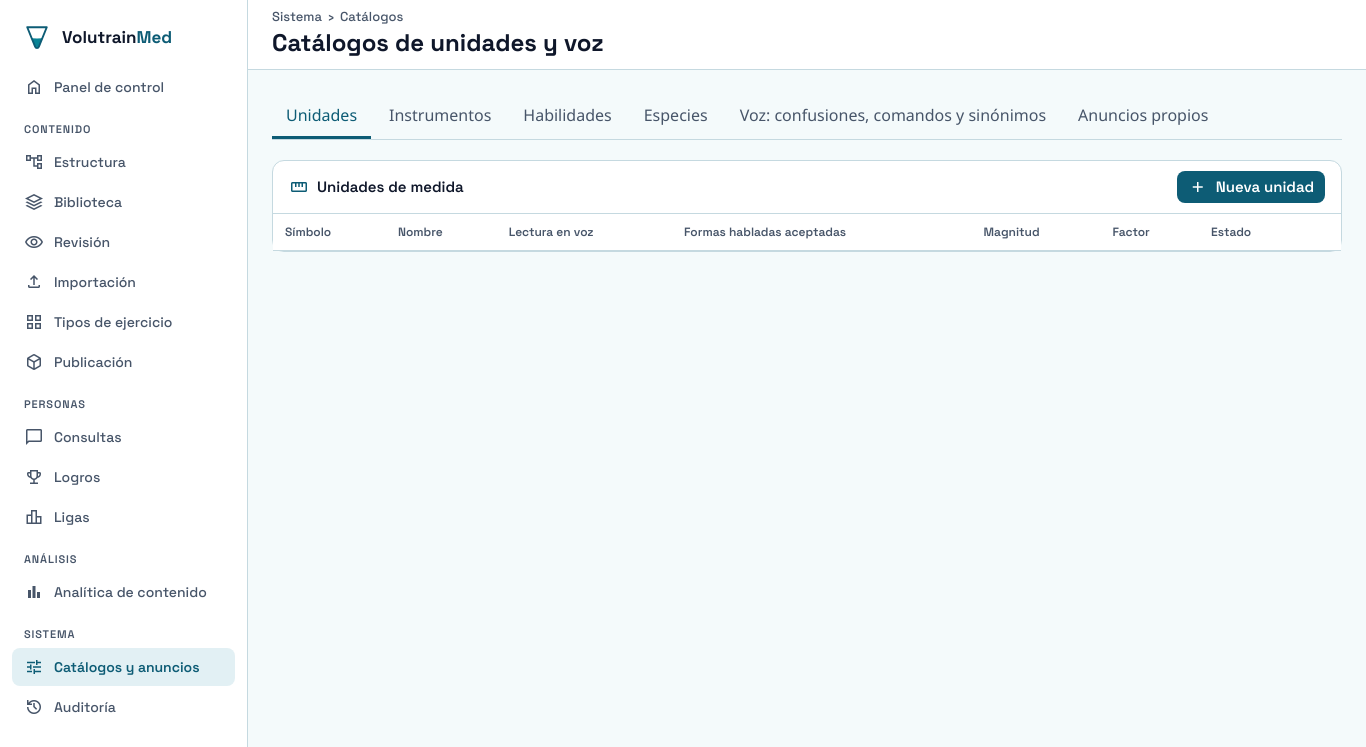
it: B26 · catálogos de unidades y voz › Prueba de interpretación: «doscientas gammas» se interpreta como 200 µg
Click the tab "Voz: confusiones, comandos y sinónimos" at x=893, y=116, box top-left (726, 94), bottom-right (1060, 139)
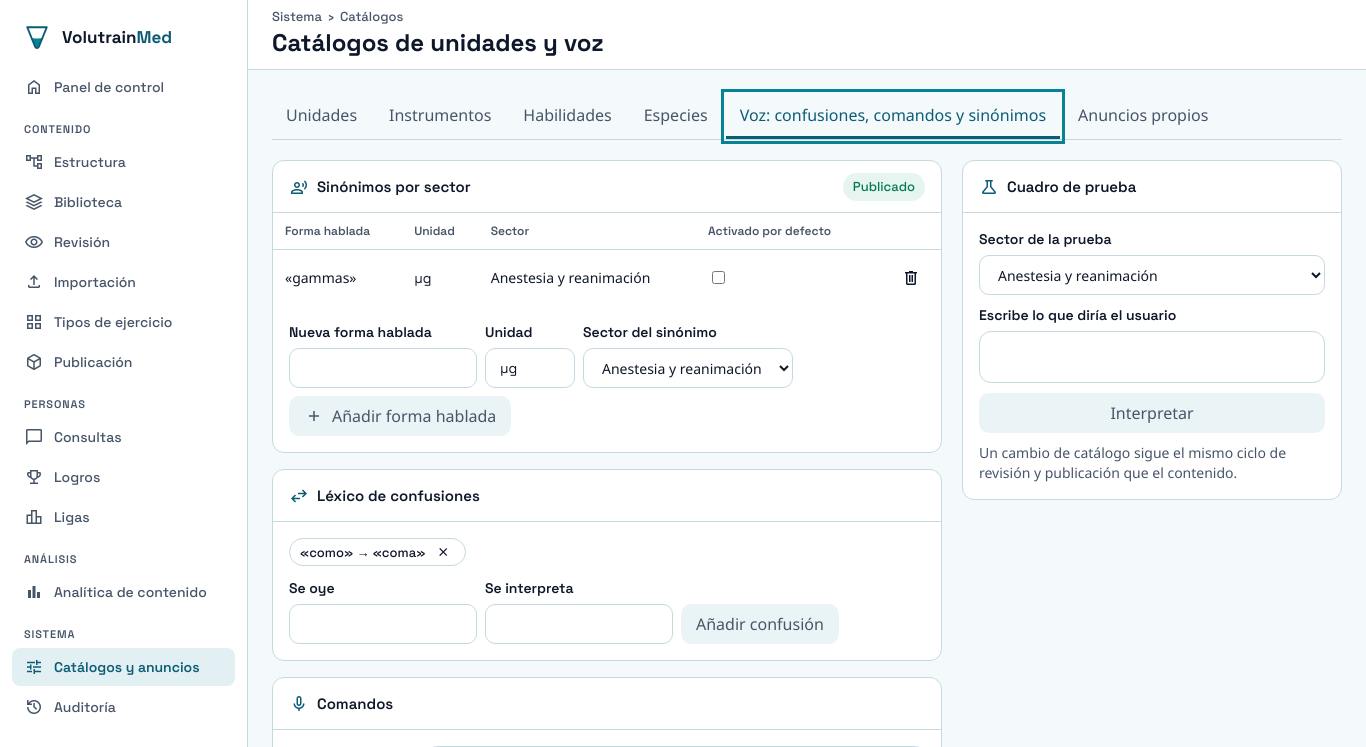
Type "doscientas gammas" into the field labelled "Escribe lo que diría el usuario" at x=1152, y=357, box top-left (979, 331), bottom-right (1325, 383)
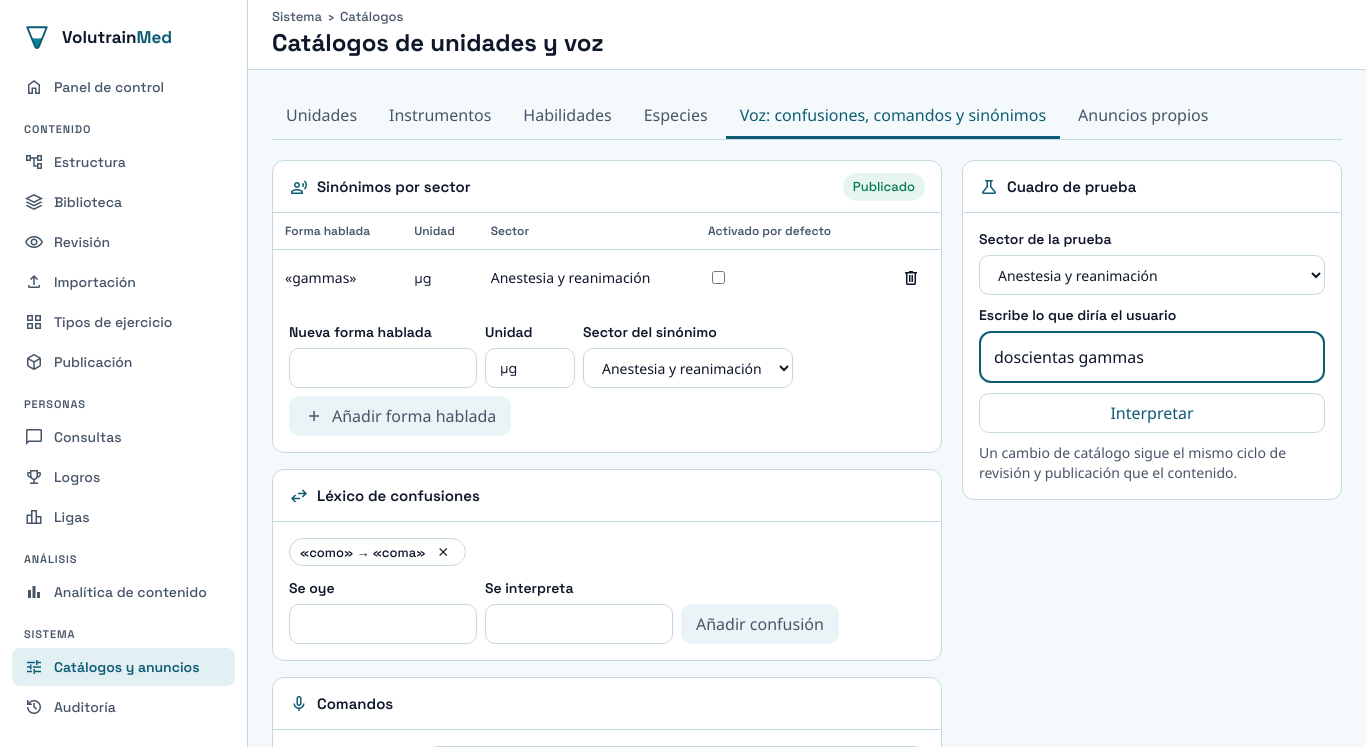
Click the button "Interpretar" at x=1152, y=413, box top-left (979, 393), bottom-right (1325, 433)
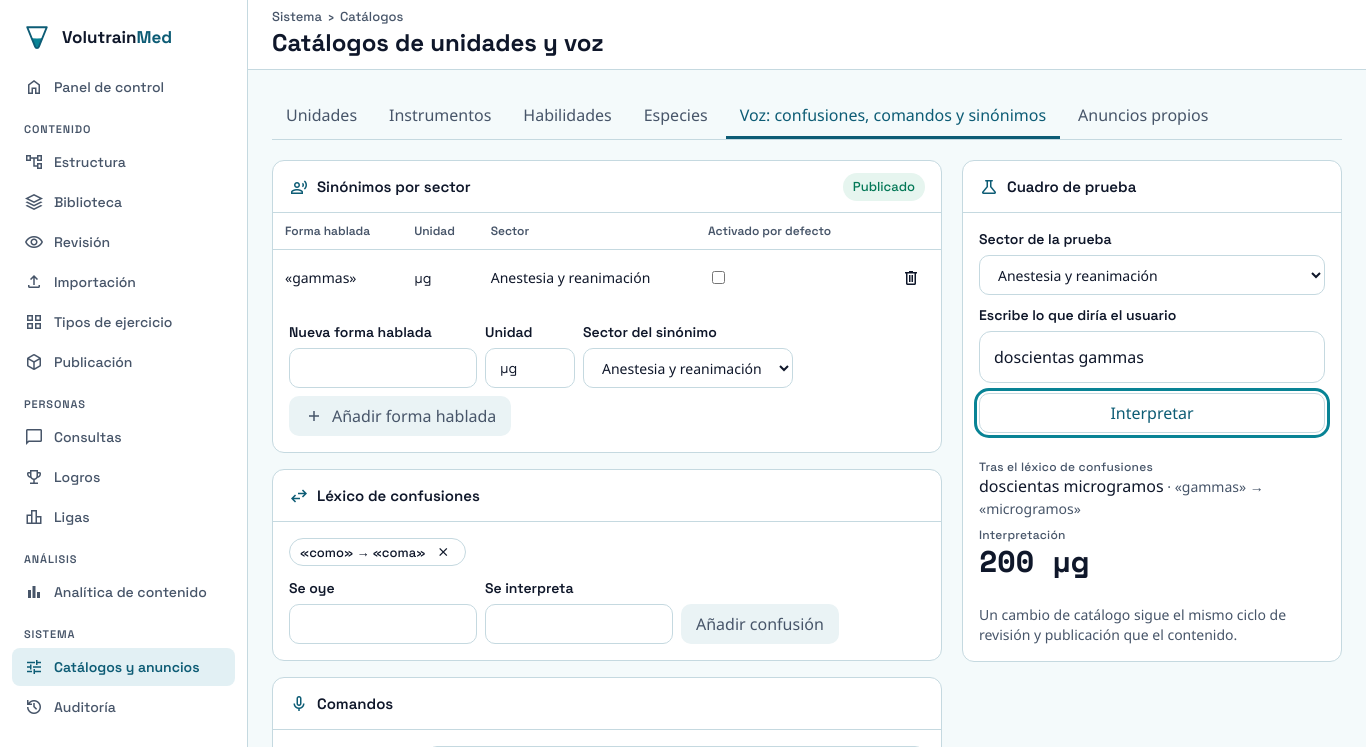
Now the text with test id "interpretacion-catalogo" reads "200 µg", box top-left (979, 538), bottom-right (1089, 583)
Now the text "· «gammas» → «microgramos»" is shown, box top-left (979, 477), bottom-right (1264, 518)
